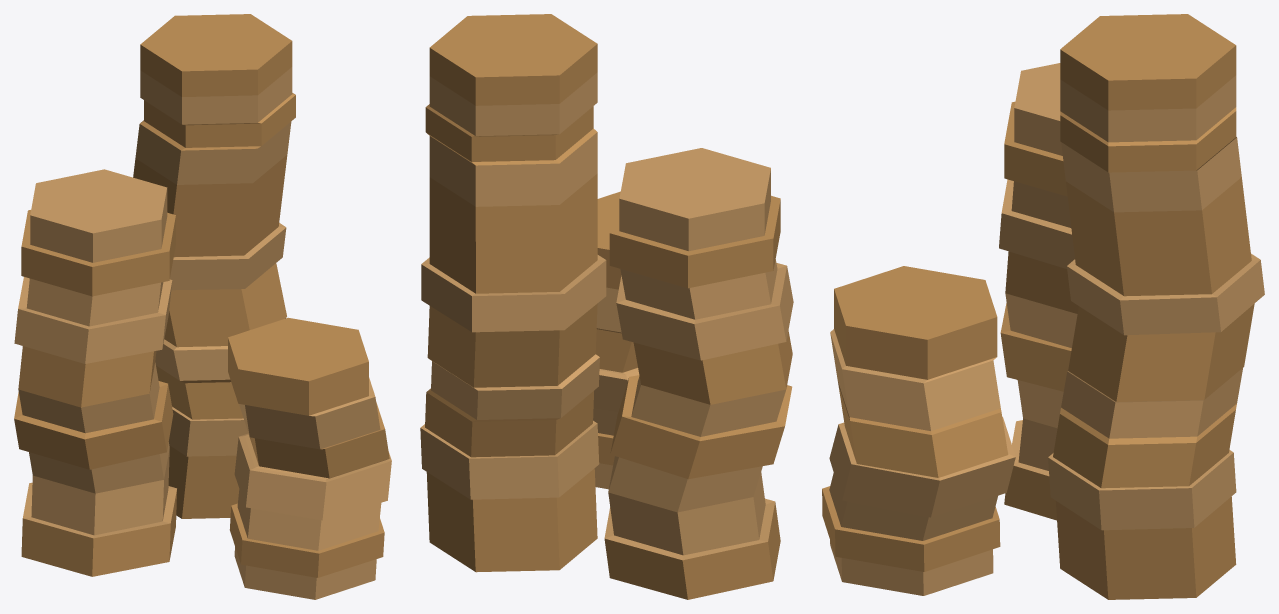
The model's file is Prop_Coin_Stack_02.glb.
The picture shows the model from 3 angles, left to right: view 1: azimuth 30°, elevation 25°; view 2: azimuth 150°, elevation 25°; view 3: azimuth 270°, elevation 25°; orthographic projection. The views are drawn at different scales.
Visible parts, largest first — view 1: SM_Gen_Prop_Coin_Stack_02; view 2: SM_Gen_Prop_Coin_Stack_02; view 3: SM_Gen_Prop_Coin_Stack_02.
Boxes of the visible parts, x1,y1,x2,y2 form: SM_Gen_Prop_Coin_Stack_02: [14, 14, 391, 599]; SM_Gen_Prop_Coin_Stack_02: [420, 14, 793, 599]; SM_Gen_Prop_Coin_Stack_02: [822, 14, 1264, 599].
Bounding box in the file's own units: 0.299 × 0.4289 × 0.3307.
1 material, 1 textured.
